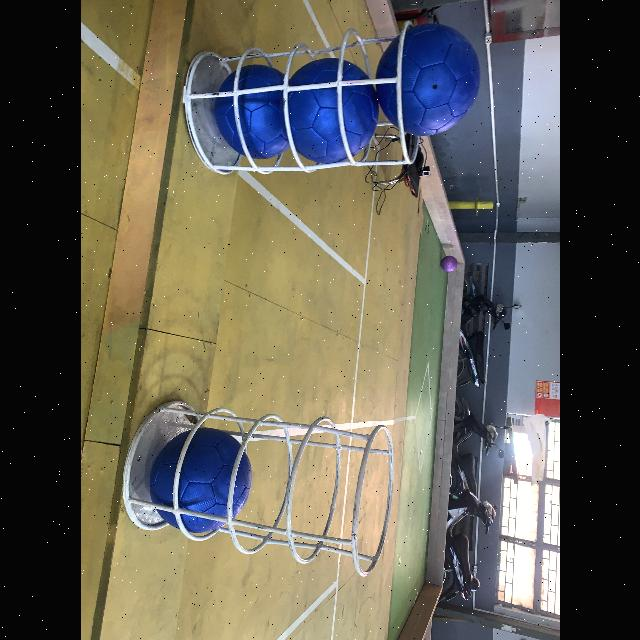B: (380, 26, 480, 136), (147, 428, 250, 534), (288, 58, 378, 162), (215, 63, 291, 159)
